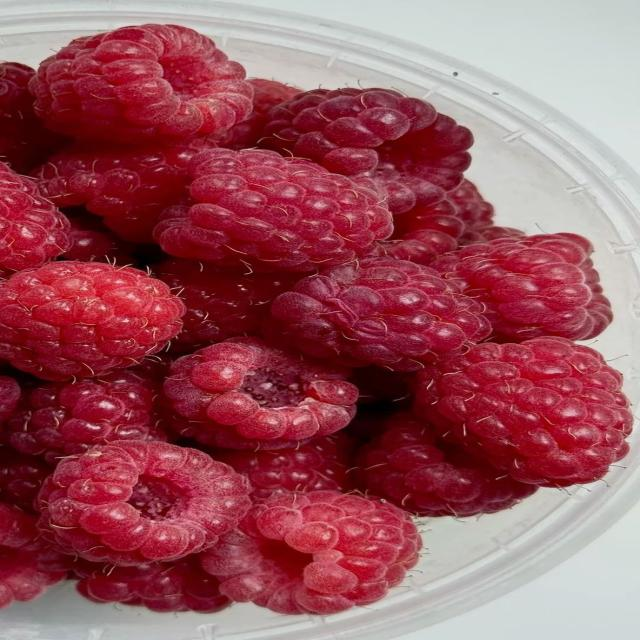raspberry: (415, 338, 632, 486), (154, 149, 392, 271), (201, 491, 419, 614), (29, 24, 253, 143), (40, 441, 250, 565), (272, 257, 490, 370), (0, 262, 184, 380), (165, 338, 358, 448), (431, 234, 612, 341), (33, 139, 216, 243), (357, 412, 536, 517), (5, 367, 166, 464), (260, 88, 436, 175), (153, 259, 299, 352), (367, 115, 473, 214), (213, 433, 354, 498), (76, 555, 231, 613), (379, 114, 473, 204), (0, 163, 69, 274), (0, 62, 63, 173), (0, 503, 65, 609), (375, 199, 465, 264), (217, 79, 300, 149), (366, 163, 446, 216), (0, 545, 66, 609), (63, 215, 136, 265), (0, 446, 53, 511), (373, 229, 458, 265), (394, 198, 466, 238), (350, 366, 411, 405), (448, 180, 493, 230), (247, 79, 301, 114), (0, 503, 40, 549), (459, 225, 526, 246), (0, 376, 20, 430)
